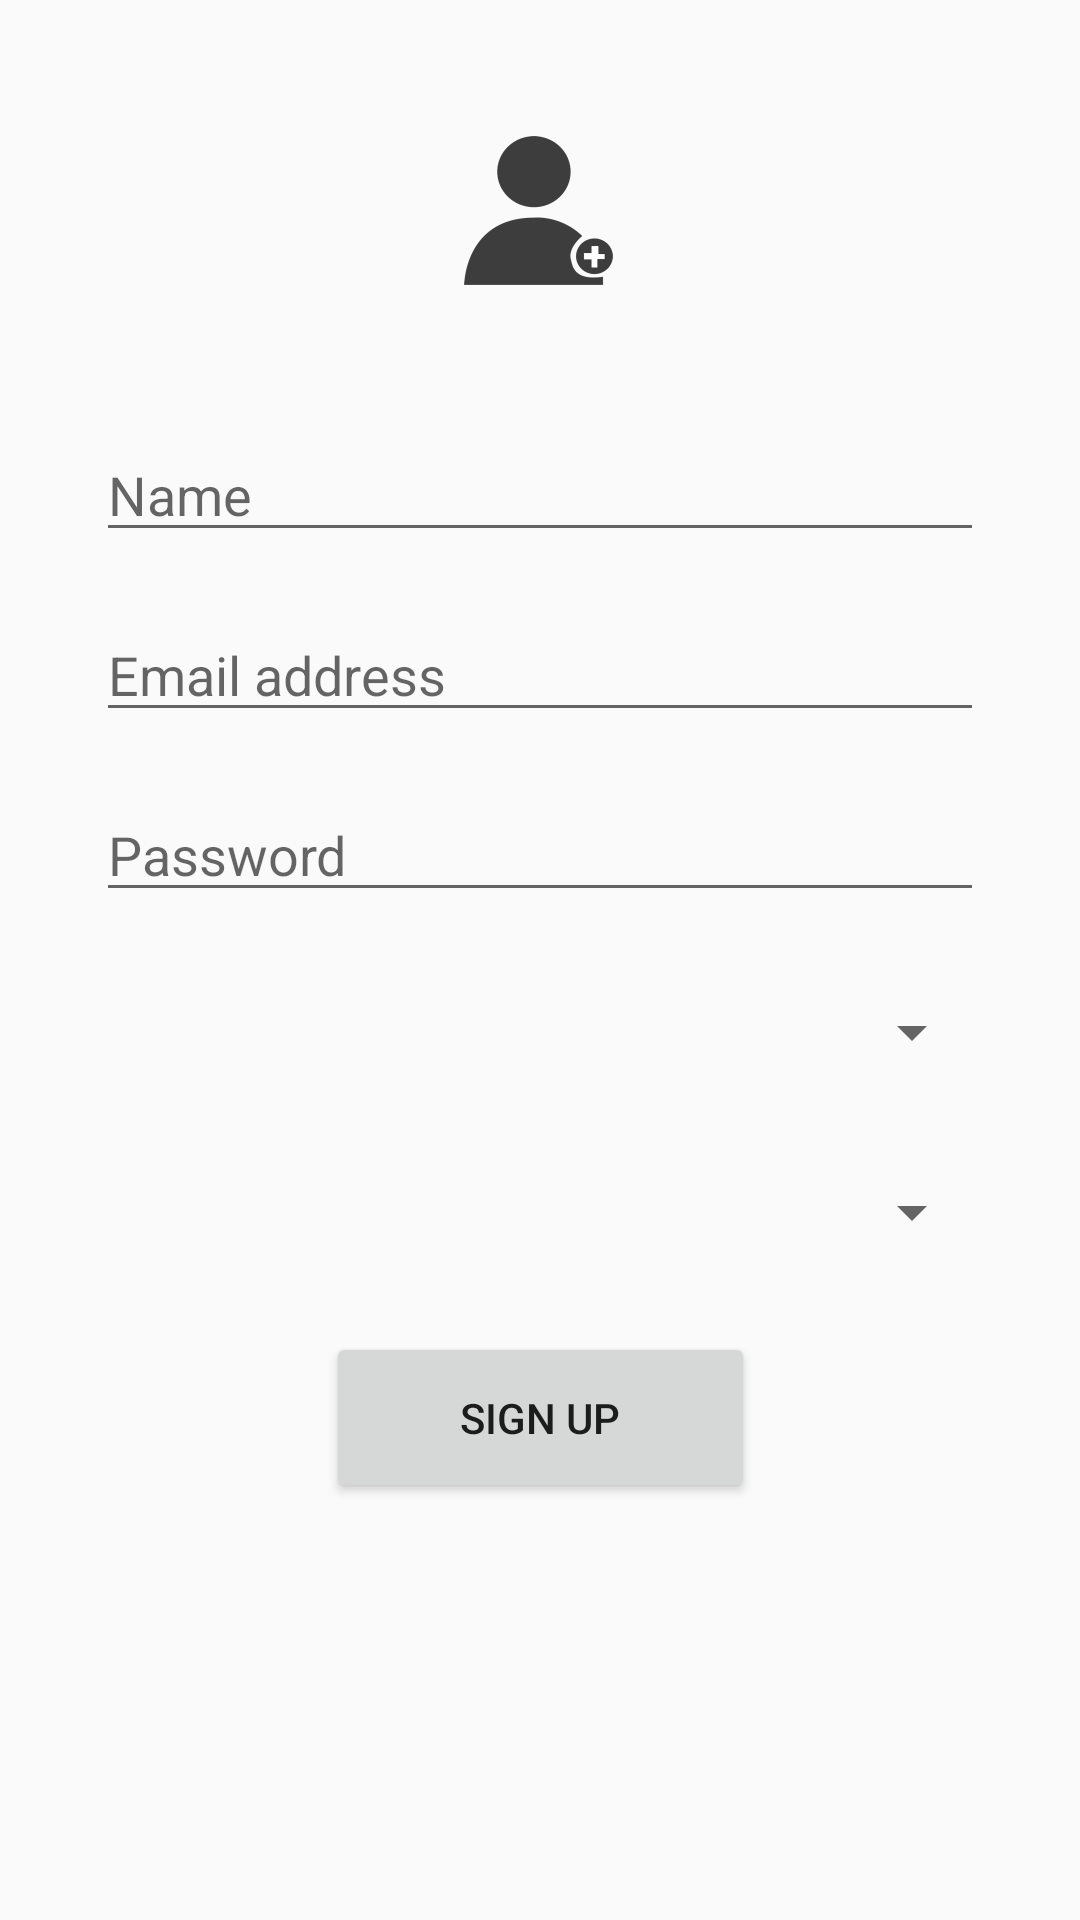

Icons on this 1080 × 1920 Android screen, each with the point to tap as (x,y):
userdefault: (538,210)
